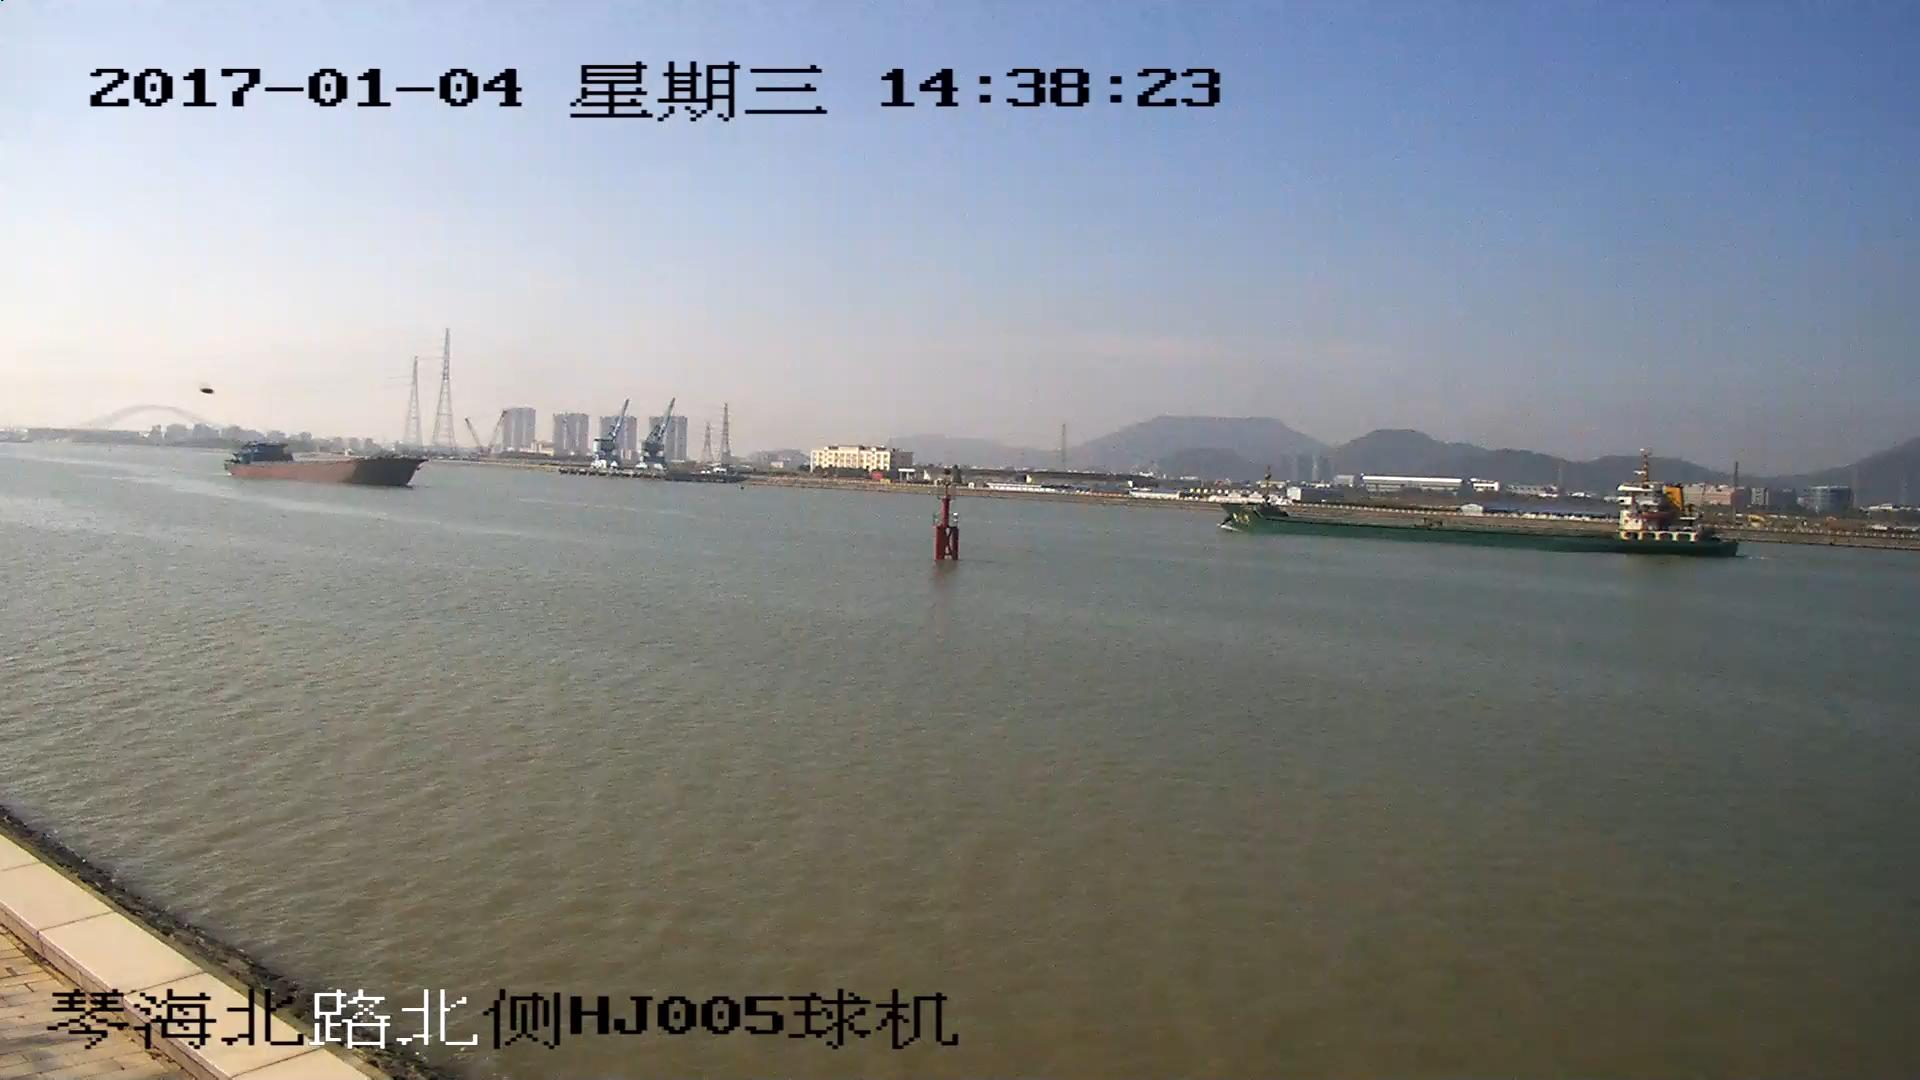bulk cargo carrier: (226, 440, 424, 488)
general cargo ship: (1226, 472, 1735, 558)
